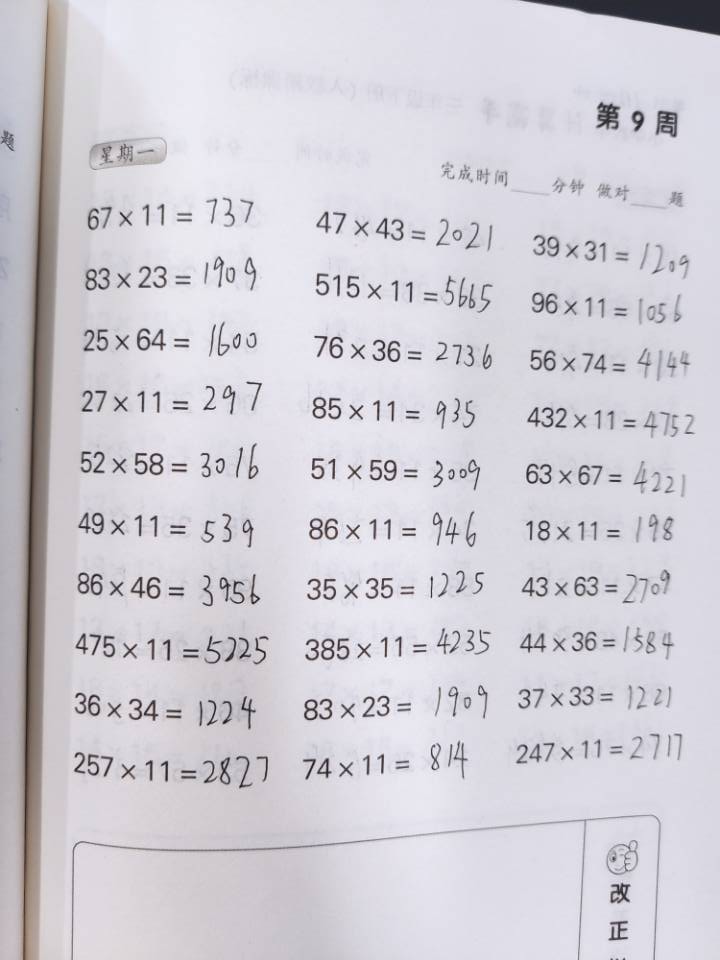equation: (556, 599, 598, 868), (139, 607, 181, 871), (464, 596, 506, 860), (148, 293, 190, 557), (374, 301, 416, 565), (332, 299, 374, 563), (464, 297, 506, 561), (419, 299, 461, 563), (461, 29, 503, 293), (502, 25, 544, 289), (232, 605, 273, 869), (182, 599, 223, 863), (373, 603, 414, 867), (323, 597, 364, 861), (273, 600, 314, 864), (417, 596, 458, 860), (508, 604, 549, 868), (246, 296, 287, 560), (196, 289, 237, 553), (284, 293, 325, 557), (551, 301, 592, 565), (507, 296, 548, 560), (541, 37, 582, 301), (340, 20, 381, 284), (378, 16, 419, 280), (421, 28, 462, 292), (211, 13, 252, 277), (250, 12, 291, 276), (293, 13, 334, 277), (170, 11, 211, 275)
